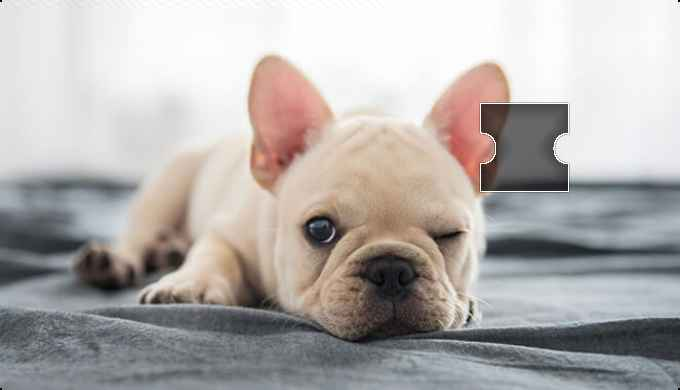gap: (479, 101, 572, 193)
